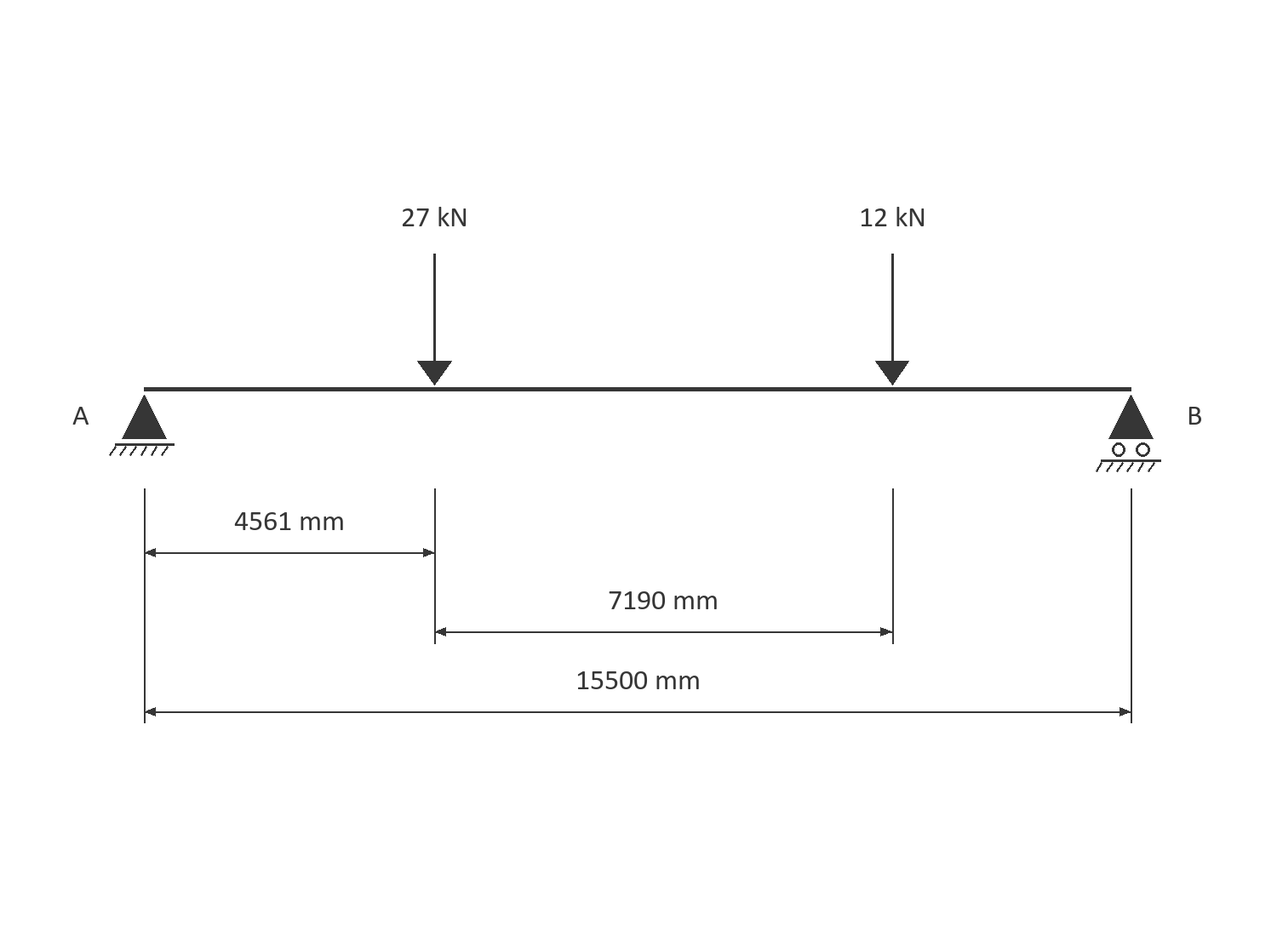pin_support: (109, 395, 175, 456)
point_load: (417, 254, 452, 385), (875, 254, 909, 385)
roller_support: (1096, 395, 1161, 472)
